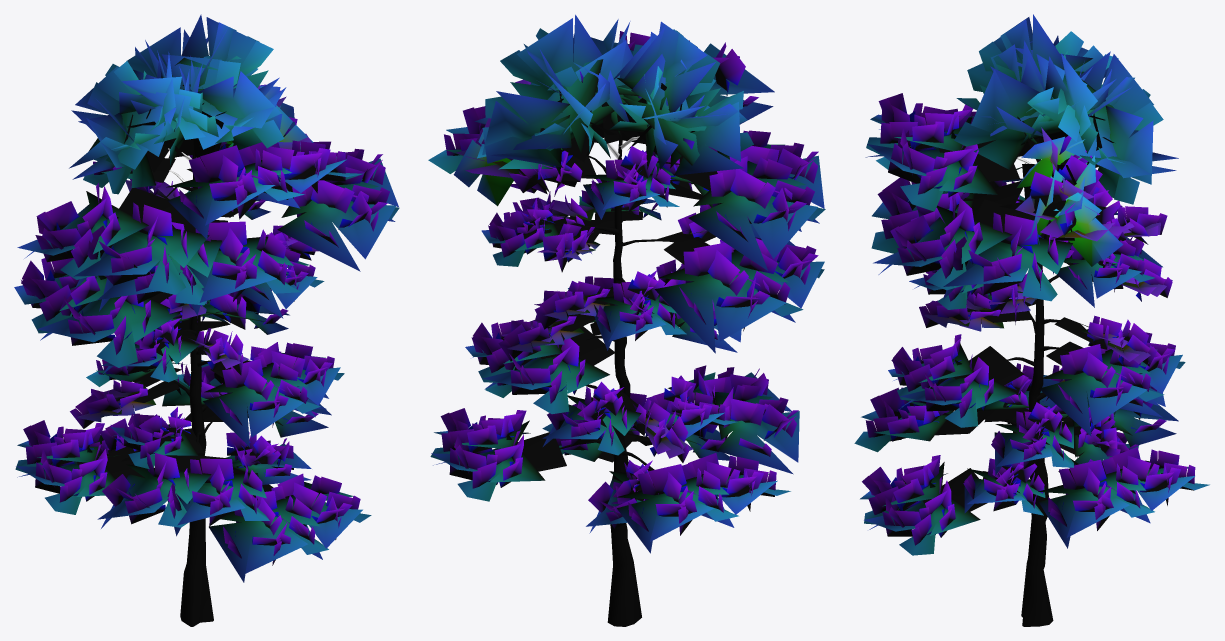
Rendered from scots_pine_2.dae.
3 renders of one model, left to right at view 1: azimuth 30°, elevation 25°; view 2: azimuth 150°, elevation 25°; view 3: azimuth 270°, elevation 25°, orthographic. The views are drawn at different scales.
Visible parts, largest first — view 1: scots_pine_003; view 2: scots_pine_003; view 3: scots_pine_003.
Part boxes in pixels (left/top/right/bottom): scots_pine_003: left=14, top=14, right=399, bottom=626; scots_pine_003: left=428, top=14, right=825, bottom=626; scots_pine_003: left=854, top=14, right=1209, bottom=626.
Bounding box in the file's own units: 11.29 × 9.97 × 18.14.
